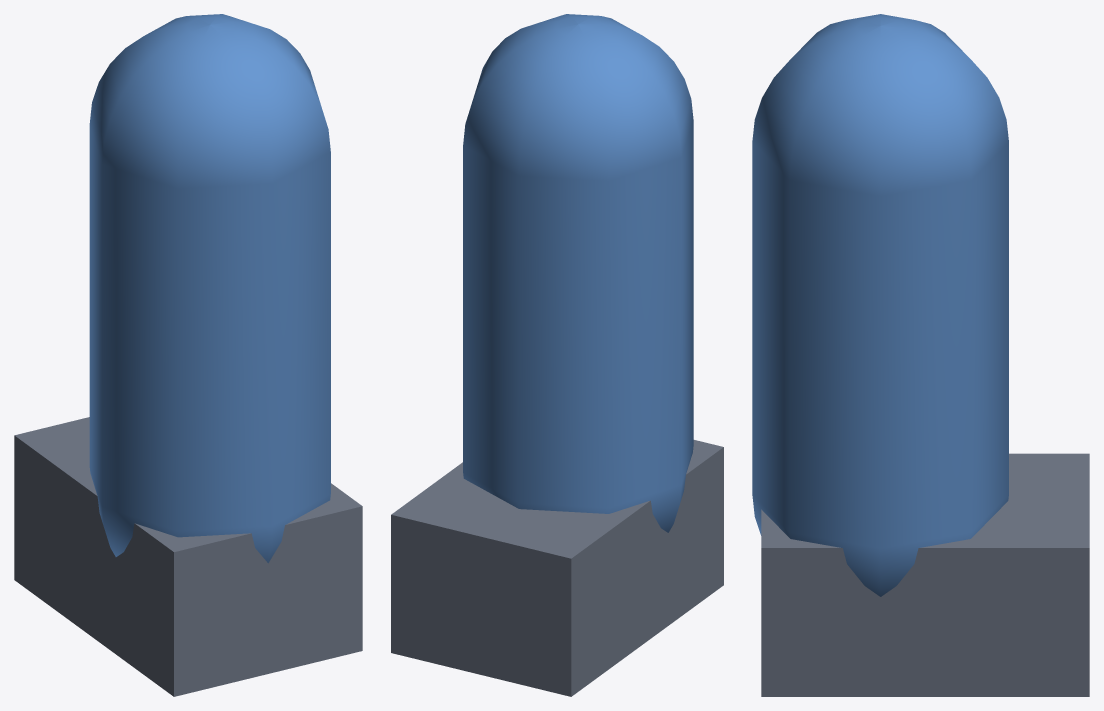
File: blue_leg.glb
3 views of the same model, side by side, from view 1: azimuth 30°, elevation 25°; view 2: azimuth 150°, elevation 25°; view 3: azimuth 270°, elevation 25° (orthographic). The views are drawn at different scales.
Visible parts, largest first — view 1: blue_leg; view 2: blue_leg; view 3: blue_leg.
Boxes of the visible parts, left/top/right/bottom form: blue_leg: left=14, top=14, right=362, bottom=696; blue_leg: left=391, top=14, right=723, bottom=696; blue_leg: left=752, top=14, right=1089, bottom=696.
Bounding box in the file's own units: 0.172 × 0.461 × 0.226.
